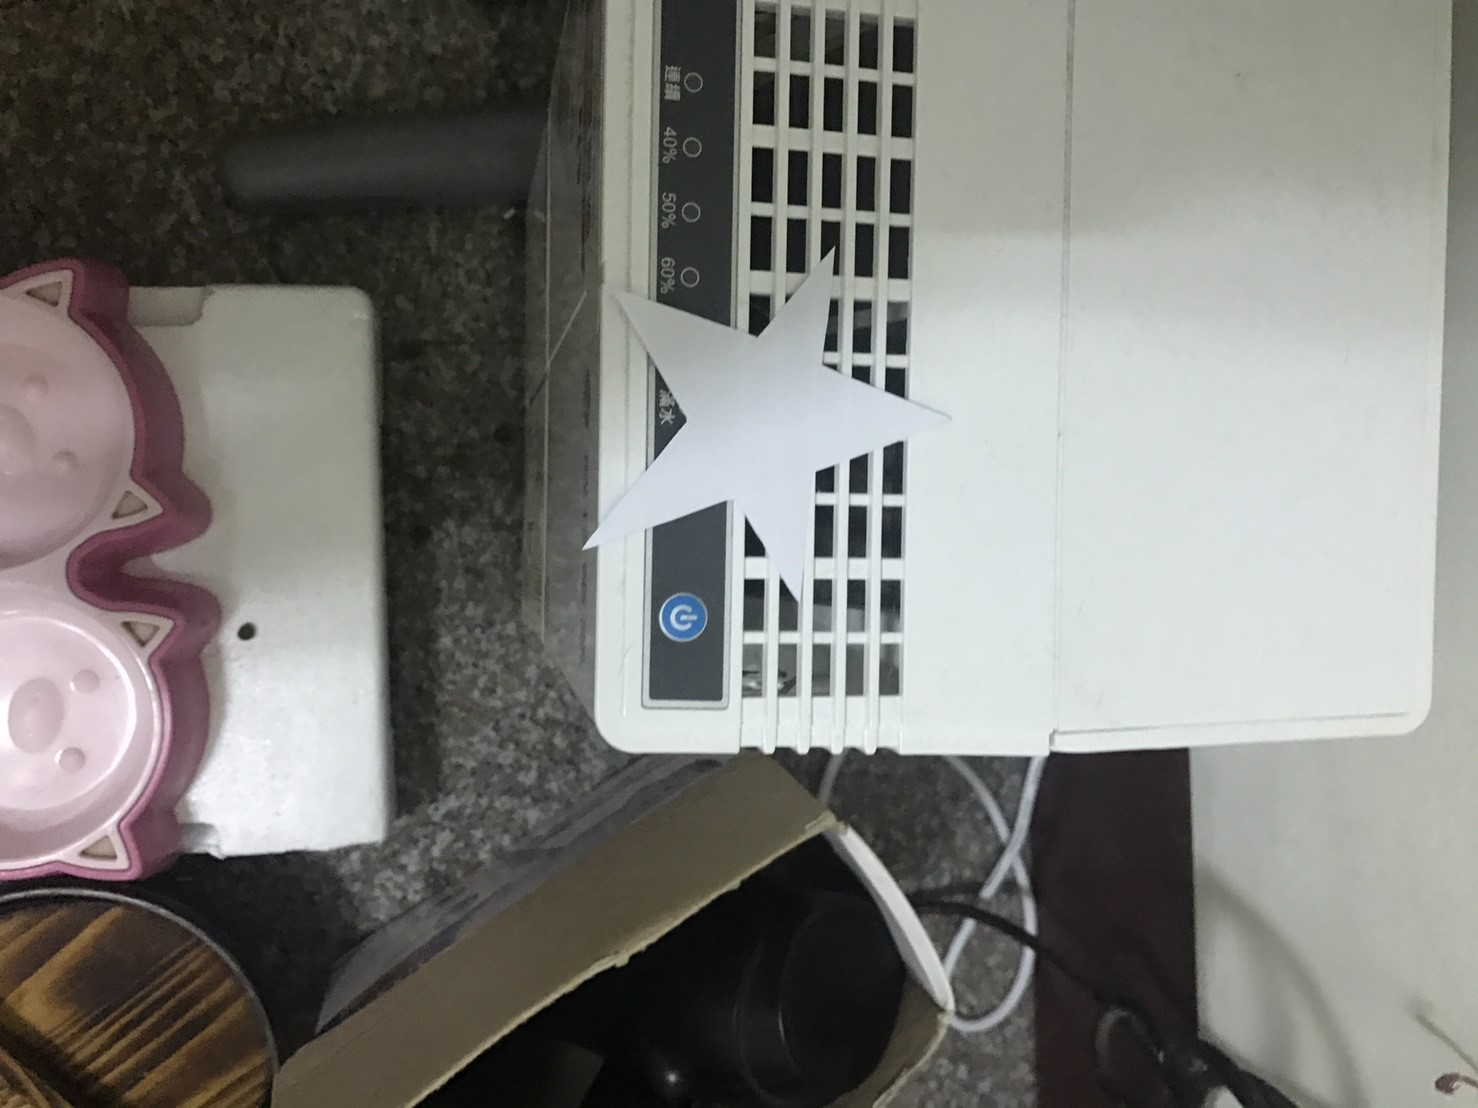star: (550, 212, 999, 615)
